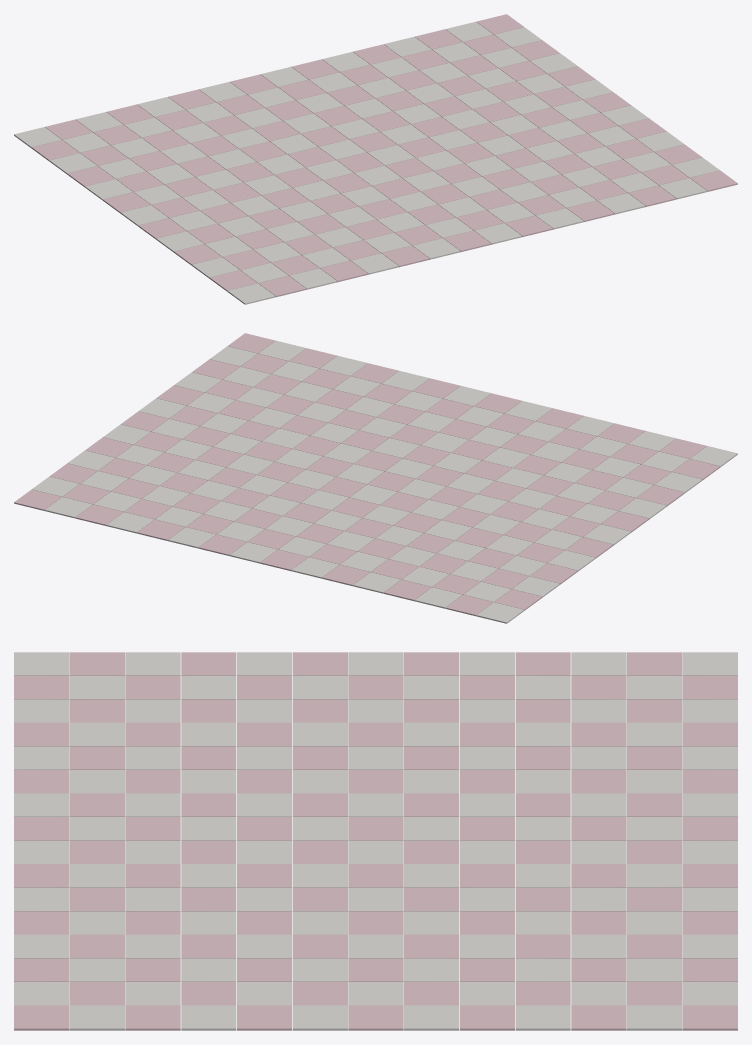
Rendered from home_floor_tiles_s3__pink.glb.
3 renders of one model, top to bottom at view 1: azimuth 30°, elevation 25°; view 2: azimuth 150°, elevation 25°; view 3: azimuth 270°, elevation 25°, orthographic. The views are drawn at different scales.
Size of the model in its own units: 15.99 by 0.04 by 12.99.
